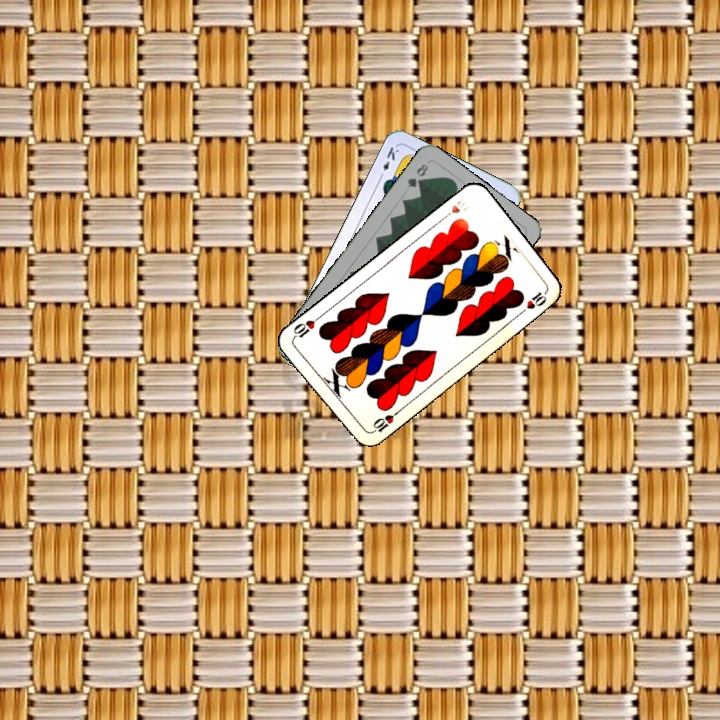EK: (375, 143, 402, 182)
G8: (403, 160, 431, 190)
H10: (438, 193, 473, 222), (367, 407, 401, 436)
